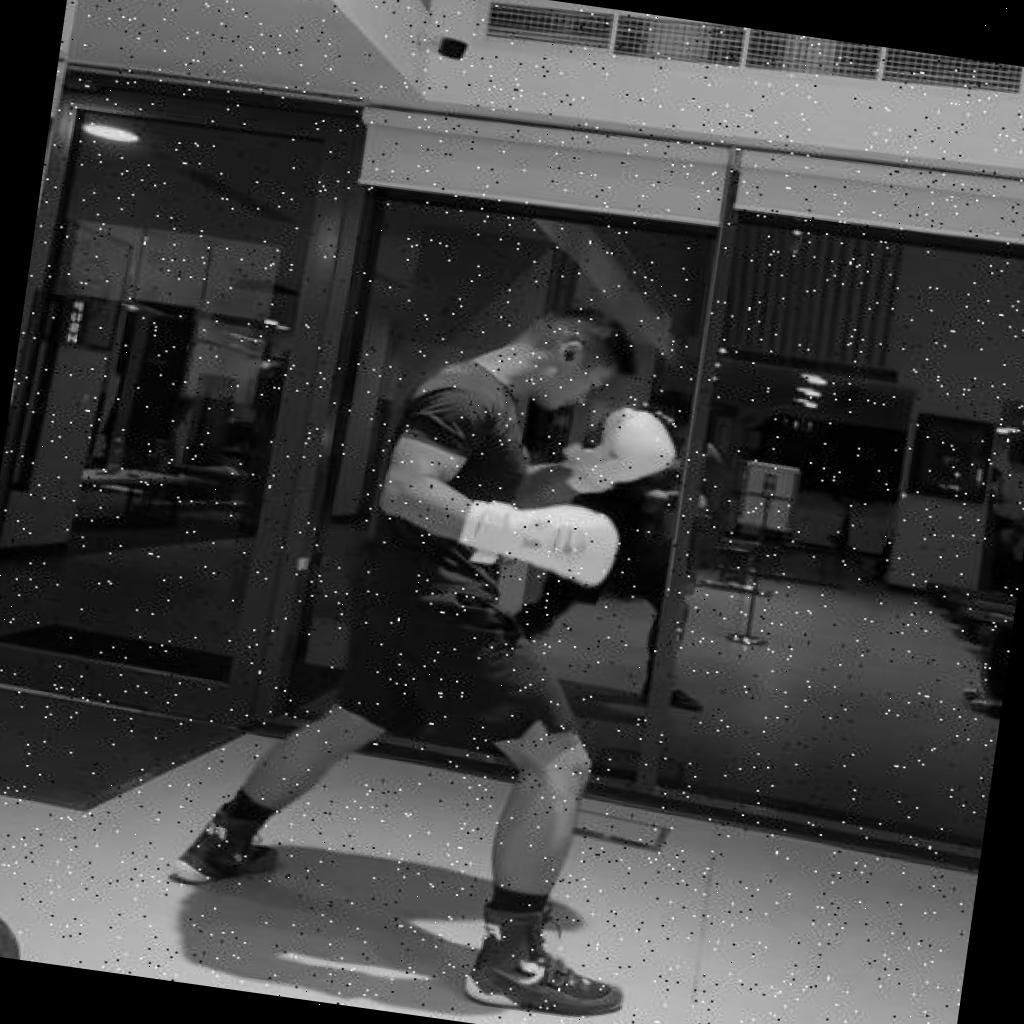no punch: (160, 263, 727, 1024)
